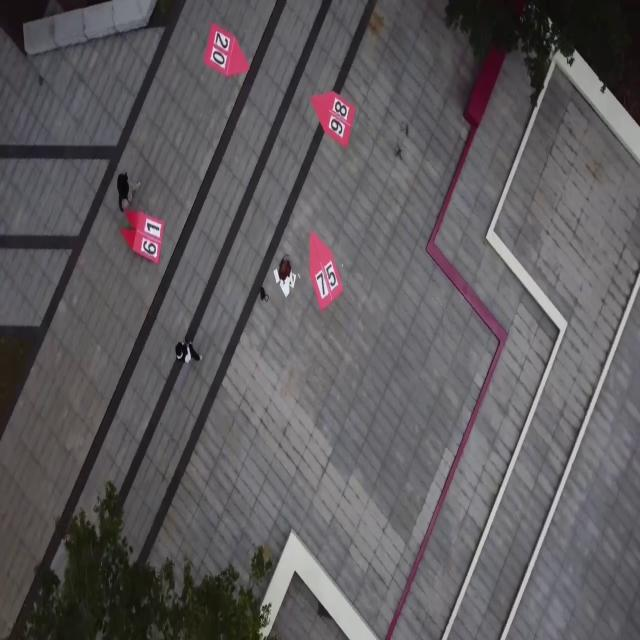-sign-: (304, 221, 347, 318), (201, 11, 253, 85), (310, 89, 356, 149)
